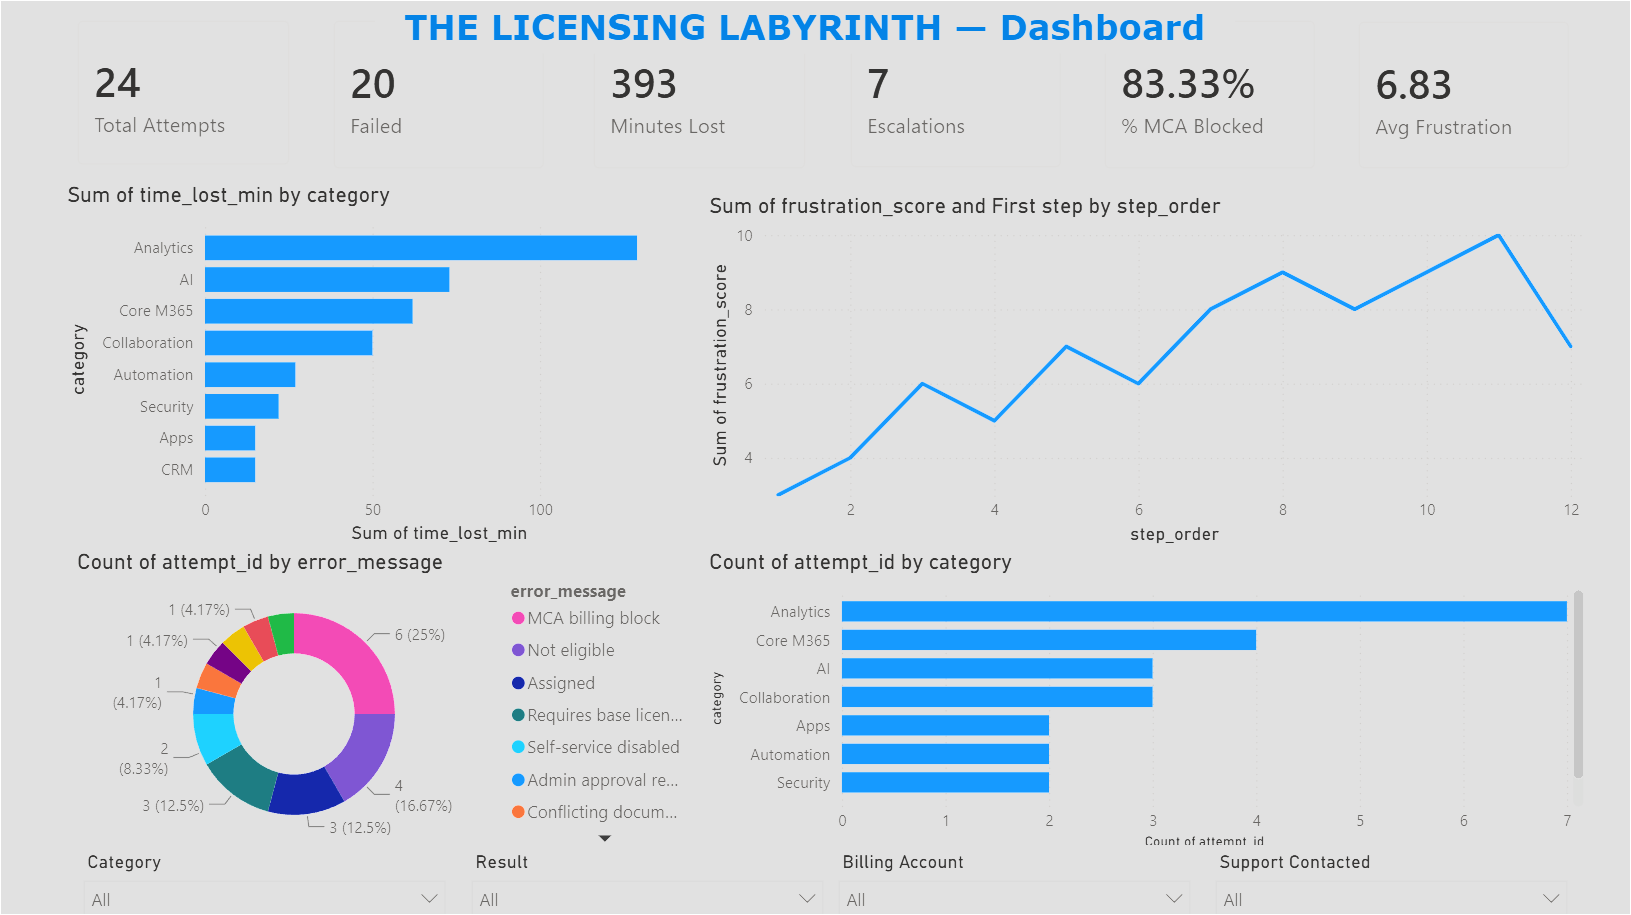

What the dashboard file says about the page in this screenshot:
{"tool":"powerbi","page":{"name":"The Licensing Labyrinth ","canvas":[1280,720],"ordinal":0},"visuals":[{"type":"cardVisual","fields":{"Data":["CountNonNull(licensing_attempts.attempt_id)"]},"box":[44.2,0,200.3,147.8],"z":0},{"type":"cardVisual","fields":{"Data":["CountNonNull(licensing_attempts.attempt_id)"]},"box":[244.6,0,199.5,150.3],"z":1000},{"type":"cardVisual","fields":{"Data":["Sum(licensing_attempts.time_lost_min)"]},"box":[449.1,0,200.3,150.3],"z":2000},{"type":"cardVisual","fields":{"Data":["CountNonNull(licensing_attempts.support_contacted)"]},"box":[650.3,0,199.5,149.4],"z":3000},{"type":"cardVisual","fields":{"Data":["Avg(frustration_scores.frustration_score)"]},"box":[1049.3,0.8,199.5,149.4],"z":4000},{"type":"cardVisual","fields":{"Data":["frustration_scores.Pct MCA"]},"box":[849.8,0,199.5,150.3],"z":5000},{"type":"clusteredBarChart","fields":{"Category":["licensing_attempts.category"],"Y":["Sum(licensing_attempts.time_lost_min)"]},"box":[48,144,496,288],"z":6000},{"type":"lineChart","fields":{"Y":["Sum(frustration_scores.frustration_score)"],"Category":["frustration_scores.step_order"]},"box":[552,152,696,280],"z":7000},{"type":"donutChart","fields":{"Category":["licensing_attempts.error_message"],"Y":["CountNonNull(licensing_attempts.attempt_id)"]},"box":[56,432,496,240],"z":8000},{"type":"clusteredBarChart","fields":{"Category":["licensing_attempts.category"],"Y":["CountNonNull(licensing_attempts.attempt_id)"]},"box":[552,432,696,240],"z":9000},{"type":"textbox","box":[294.7,0,674.5,43.4],"z":10000},{"type":"slicer","fields":{"Values":["licensing_attempts.category"]},"box":[56,664,304,56],"z":10001},{"type":"slicer","fields":{"Values":["licensing_attempts.result"]},"box":[360,664,296,56],"z":10002},{"type":"slicer","fields":{"Values":["licensing_attempts.billing_account"]},"box":[648,664,296,56],"z":10003},{"type":"slicer","fields":{"Values":["licensing_attempts.support_contacted"]},"box":[944,664,296,56],"z":10004}]}

Visuals, with their boxes in screenshot pixels (x1, y1, x2, y2), scaled from the page's 1280x720 canvas onto the 1631x915 screenshot:
cardVisual - CountNonNull(licensing_attempts.attempt_id): box(56, 0, 312, 188)
cardVisual - CountNonNull(licensing_attempts.attempt_id): box(312, 0, 566, 191)
cardVisual - Sum(licensing_attempts.time_lost_min): box(572, 0, 827, 191)
cardVisual - CountNonNull(licensing_attempts.support_contacted): box(829, 0, 1083, 190)
cardVisual - Avg(frustration_scores.frustration_score): box(1337, 1, 1591, 191)
cardVisual - frustration_scores.Pct MCA: box(1083, 0, 1337, 191)
clusteredBarChart - licensing_attempts.category x Sum(licensing_attempts.time_lost_min): box(61, 183, 693, 549)
lineChart - Sum(frustration_scores.frustration_score) x frustration_scores.step_order: box(703, 193, 1590, 549)
donutChart - licensing_attempts.error_message x CountNonNull(licensing_attempts.attempt_id): box(71, 549, 703, 854)
clusteredBarChart - licensing_attempts.category x CountNonNull(licensing_attempts.attempt_id): box(703, 549, 1590, 854)
textbox: box(376, 0, 1235, 55)
slicer - licensing_attempts.category: box(71, 844, 459, 914)
slicer - licensing_attempts.result: box(459, 844, 836, 914)
slicer - licensing_attempts.billing_account: box(826, 844, 1203, 914)
slicer - licensing_attempts.support_contacted: box(1203, 844, 1580, 914)
